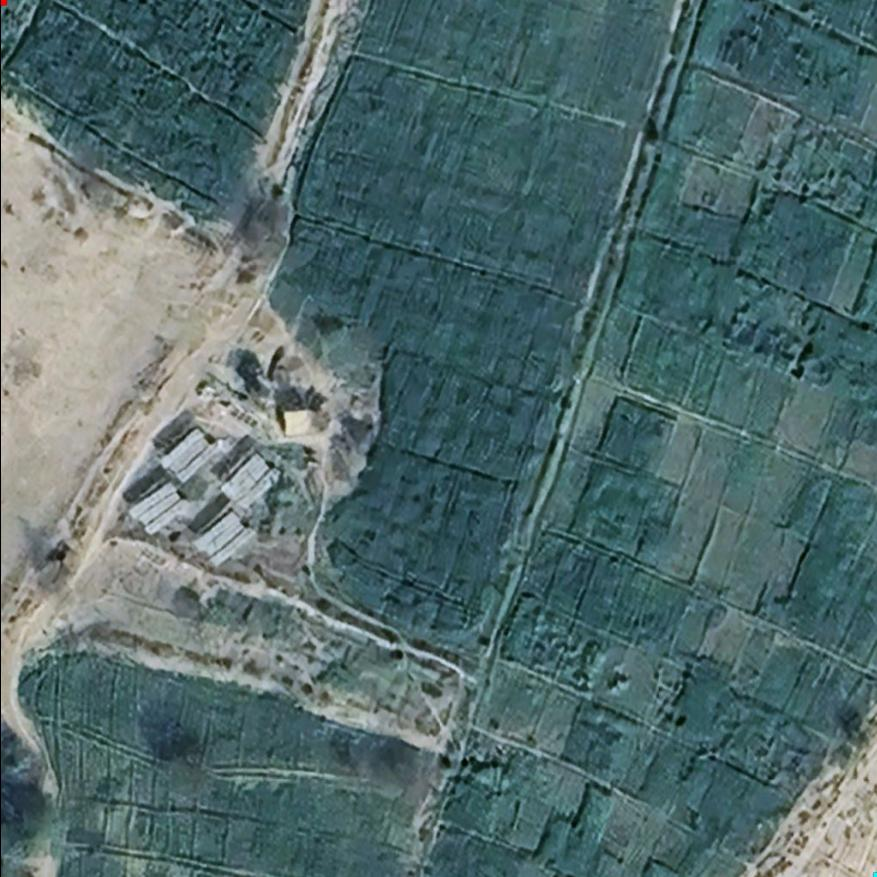Solarpanel: (152, 419, 228, 490), (117, 477, 197, 542), (185, 507, 262, 570), (214, 450, 284, 515)
